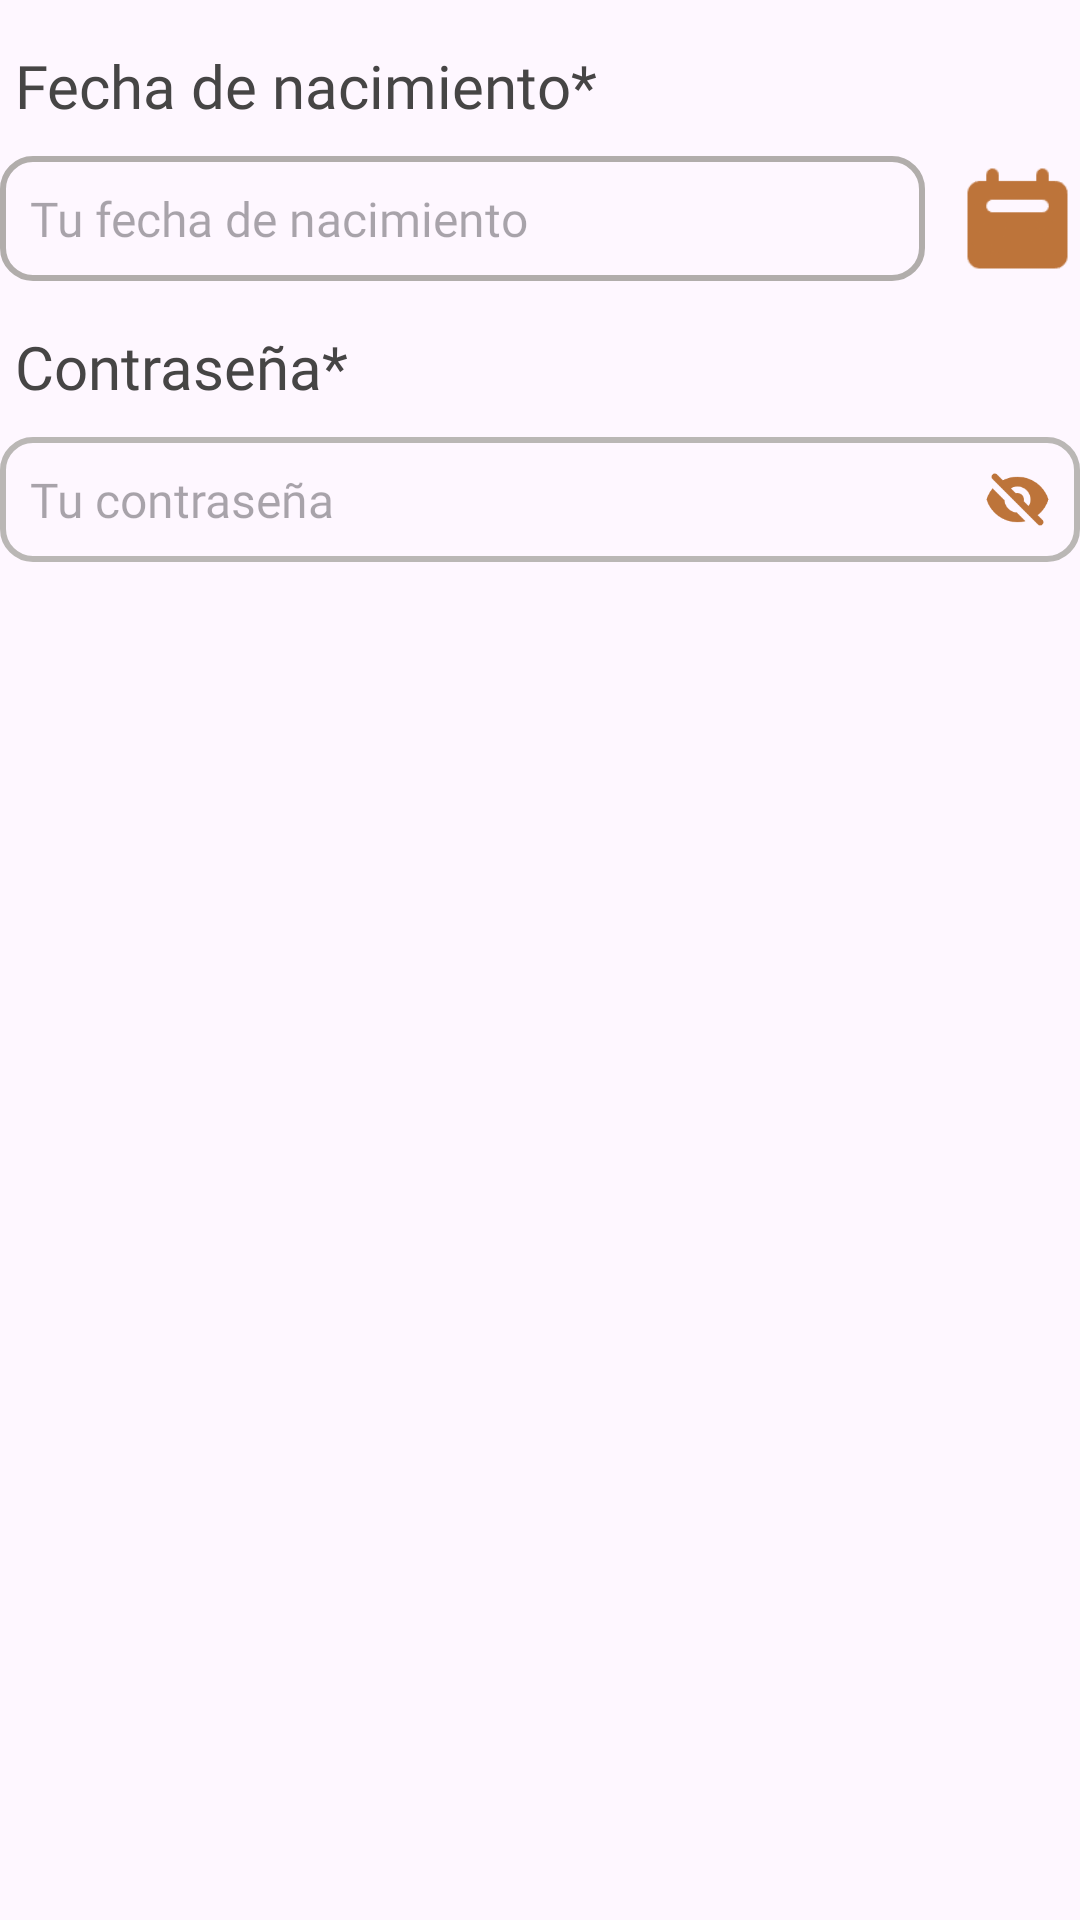

Locate icon controls on the screen. Image size 1080 × 1920, boxes as box=[x1, y1, x2, y2].
calendarorange: box=[967, 168, 1068, 269]
eyeoff: box=[986, 473, 1049, 526]
